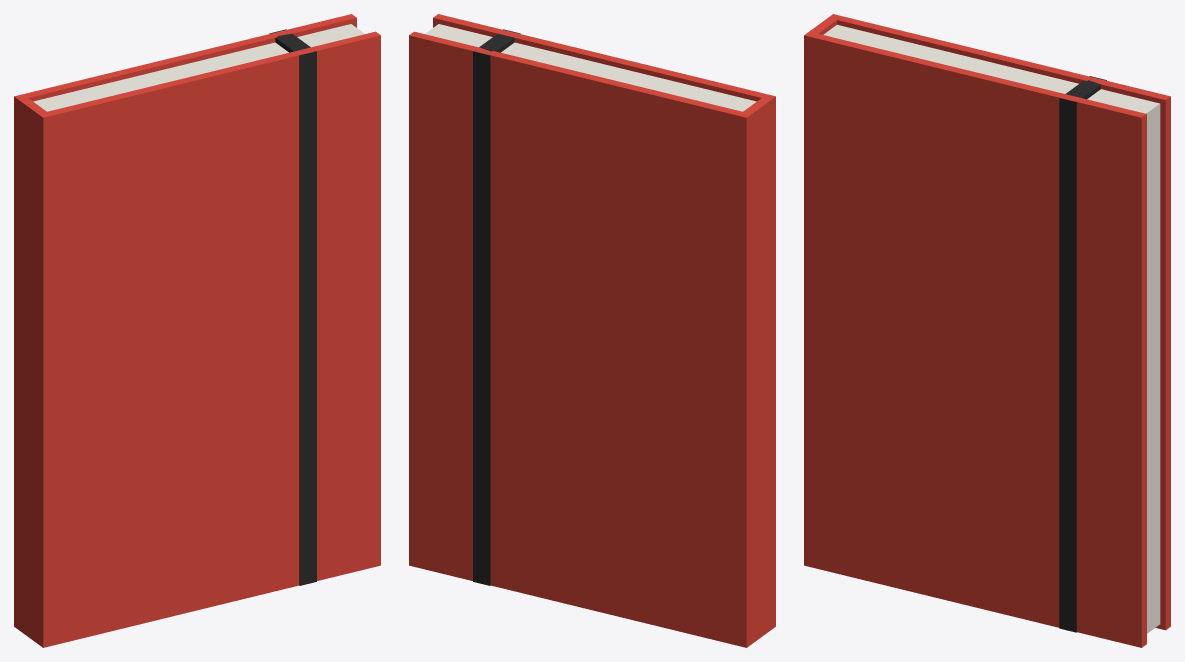
File: notebook.glb
3 renders of one model, left to right at view 1: azimuth 30°, elevation 25°; view 2: azimuth 150°, elevation 25°; view 3: azimuth 330°, elevation 25°, orthographic.
Parts seen in each view (by area): view 1: notebook; view 2: notebook; view 3: notebook.
Part boxes in pixels (x1,y1,x2,y2): notebook: (14,14,380,647); notebook: (409,14,775,647); notebook: (804,14,1170,647).
Size of the model in its own units: 0.06 by 0.09 by 0.0094.
